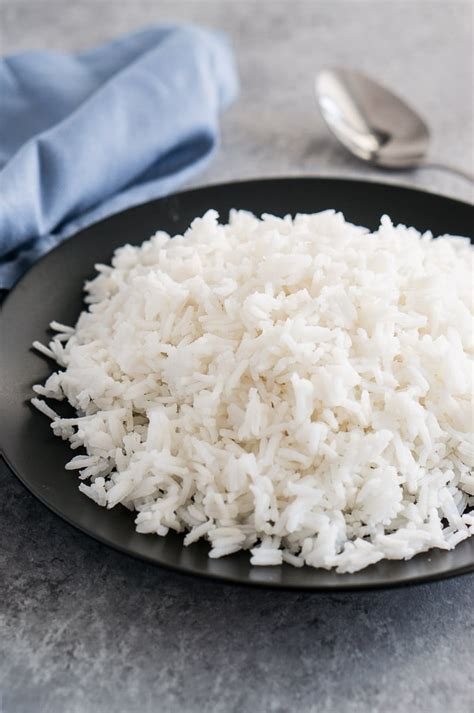rice: (89, 232, 466, 479)
